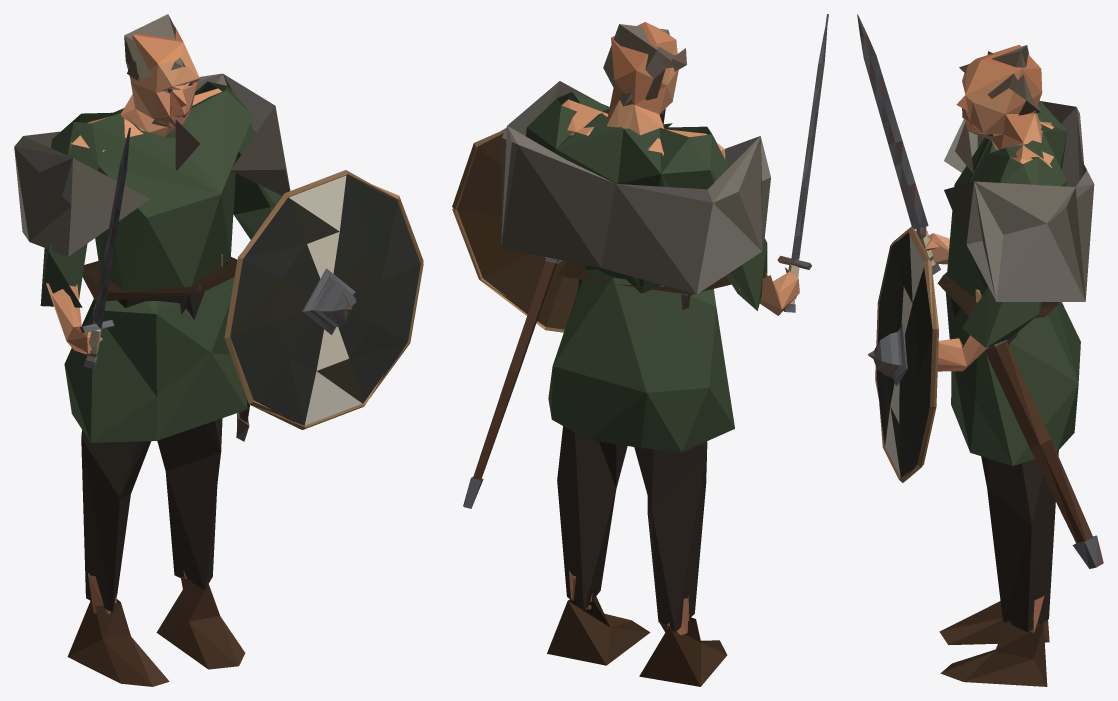
Rendered from forest_swordsman-sole-center.glb.
3 renders of one model, left to right at view 1: azimuth 30°, elevation 25°; view 2: azimuth 150°, elevation 25°; view 3: azimuth 270°, elevation 25°, orthographic. The views are drawn at different scales.
Visible parts, largest first — view 1: forest_swordsman; view 2: forest_swordsman; view 3: forest_swordsman.
Boxes of the visible parts, x1,y1,x2,y2 form: forest_swordsman: (14, 14, 423, 686); forest_swordsman: (452, 14, 828, 686); forest_swordsman: (857, 14, 1103, 686).
Size of the model in its own units: 0.998 by 1.72 by 0.6275.
1 material, 1 textured.
